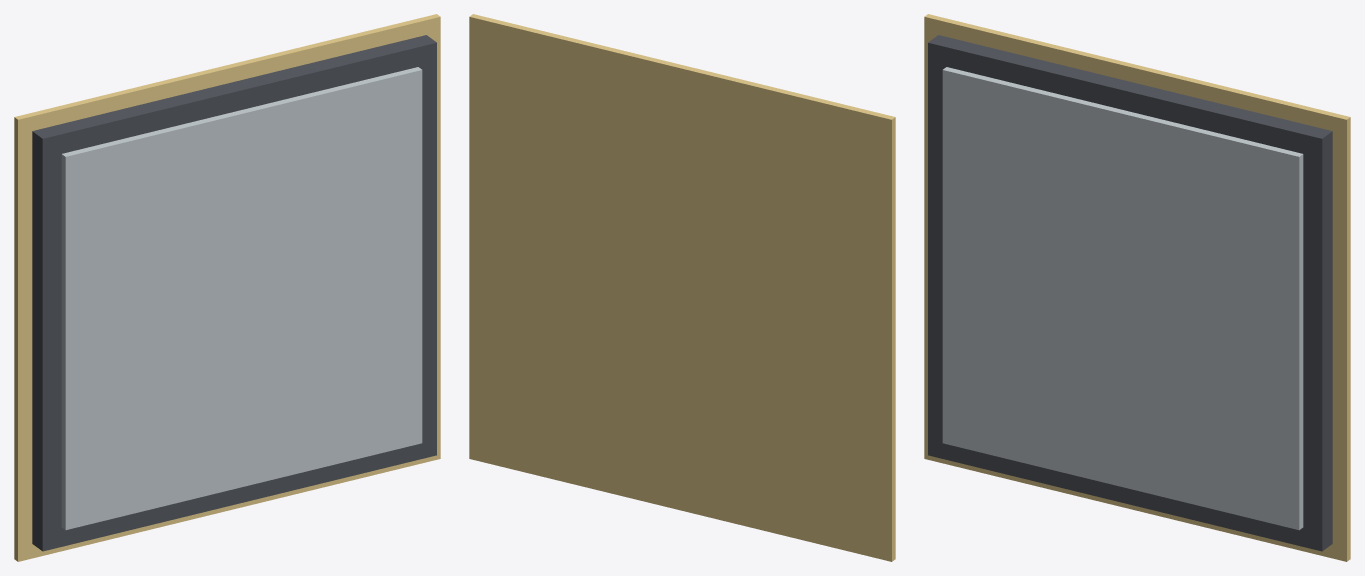
File: 001_L110_U01_CPU_DynamicLoad.glb
3 views of the same model, side by side, from view 1: azimuth 30°, elevation 25°; view 2: azimuth 150°, elevation 25°; view 3: azimuth 330°, elevation 25° (orthographic).
Parts seen in each view (by area): view 1: L110_U01_CPU_DynamicLoad_ALUMINUM, L110_U01_CPU_DynamicLoad_EPOXY, L110_U01_CPU_DynamicLoad_GOLD; view 2: L110_U01_CPU_DynamicLoad_GOLD; view 3: L110_U01_CPU_DynamicLoad_ALUMINUM, L110_U01_CPU_DynamicLoad_EPOXY, L110_U01_CPU_DynamicLoad_GOLD.
Boxes of the visible parts, x1,y1,x2,y2 form: L110_U01_CPU_DynamicLoad_ALUMINUM: (61, 67, 422, 530); L110_U01_CPU_DynamicLoad_EPOXY: (32, 35, 436, 551); L110_U01_CPU_DynamicLoad_GOLD: (14, 14, 440, 561); L110_U01_CPU_DynamicLoad_GOLD: (469, 14, 895, 561); L110_U01_CPU_DynamicLoad_ALUMINUM: (942, 67, 1303, 530); L110_U01_CPU_DynamicLoad_EPOXY: (928, 35, 1332, 551); L110_U01_CPU_DynamicLoad_GOLD: (924, 14, 1350, 561).
Bounding box in the file's own units: 45 × 45 × 3.4.
